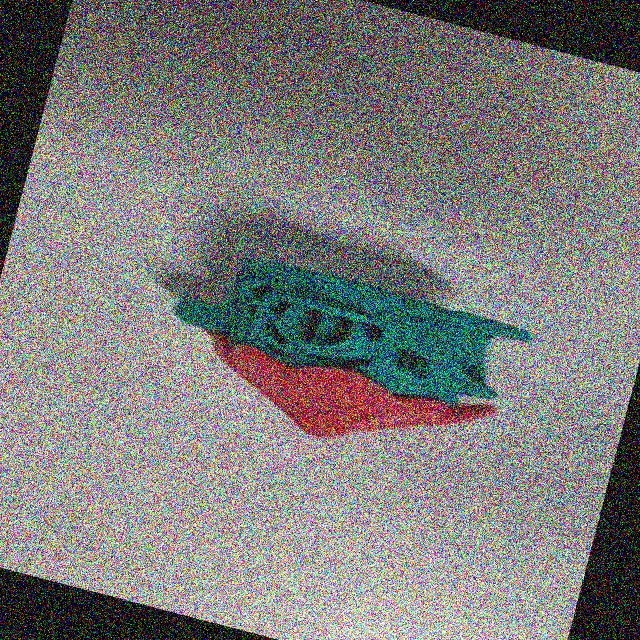House: (93, 183, 576, 506)
